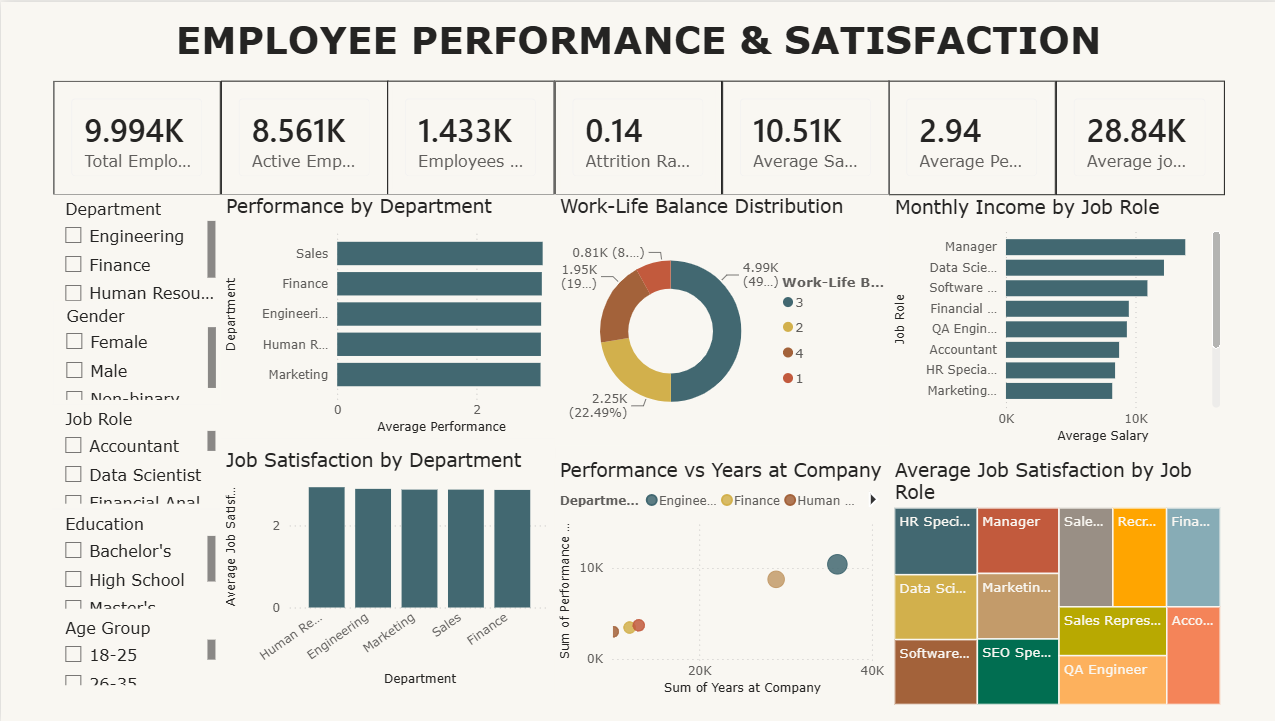

The dashboard page shown, as its layout file describes it:
{"tool":"powerbi","page":{"name":"EMPLOYEE PERFORMANCE & SATISFACTION","canvas":[1280,720],"ordinal":2},"visuals":[{"type":"cardVisual","fields":{"Data":["HR.Total Employees"]},"box":[52.4,78.6,167.1,114.3],"z":0},{"type":"textbox","box":[51.4,10,1172.9,68.6],"z":1000},{"type":"cardVisual","fields":{"Data":["HR.Average Performance"]},"box":[888.1,78.6,167.1,114.3],"z":2000},{"type":"cardVisual","fields":{"Data":["HR.Average Salary"]},"box":[721,78.6,167.1,114.3],"z":3000},{"type":"cardVisual","fields":{"Data":["HR.Active Employees"]},"box":[219.5,78.6,167.1,114.3],"z":4000},{"type":"cardVisual","fields":{"Data":["HR.Employees Left"]},"box":[386.7,78.6,167.1,114.3],"z":5000},{"type":"cardVisual","fields":{"Data":["HR.Attrition Rate"]},"box":[553.8,78.6,167.1,114.3],"z":6000},{"type":"cardVisual","fields":{"Data":["Sum(HR.Job Satisfaction)"]},"box":[1055.2,78.6,168.6,114.3],"z":7000},{"type":"clusteredBarChart","title":"Performance by Department","fields":{"Y":["HR.Average Performance"],"Category":["HR.Department"]},"box":[220,192.9,334.3,244.3],"z":8000},{"type":"donutChart","title":"Work-Life Balance Distribution","fields":{"Y":["HR.Total Employees"],"Category":["HR.Work-Life Balance"]},"box":[554.3,192.9,334.3,251.4],"z":9000},{"type":"columnChart","title":"Job Satisfaction by Department","fields":{"Category":["HR.Department"],"Y":["HR.Average Job Satisfaction"]},"box":[220,445.7,334.3,242.9],"z":10000},{"type":"slicer","fields":{"Values":["HR.Department"]},"box":[51.4,192.9,168.6,122.9],"z":14000},{"type":"slicer","fields":{"Values":["HR.Gender"]},"box":[52.9,298.6,167.1,104.3],"z":16000},{"type":"slicer","fields":{"Values":["HR.Job Role"]},"box":[51.4,402.9,168.6,104.3],"z":17000},{"type":"slicer","fields":{"Values":["HR.Education"]},"box":[51.4,507.1,168.6,104.3],"z":18000},{"type":"slicer","fields":{"Values":["HR.Age Group"]},"box":[51.4,611.4,168.6,77.1],"z":19000},{"type":"barChart","title":"Monthly Income by Job Role","fields":{"Category":["HR.Job Role"],"Y":["HR.Average Salary"]},"box":[888.6,194.3,335.7,251.4],"z":19001},{"type":"scatterChart","title":"Performance vs Years at Company","fields":{"X":["Sum(HR.Years at Company)"],"Y":["Sum(HR.Performance Rating)"],"Size":["Sum(HR.Monthly Income)"],"Series":["HR.Department"]},"box":[554.3,455.7,334.3,241.4],"z":19002},{"type":"treemap","fields":{"Values":["HR.Average Job Satisfaction"],"Group":["HR.Job Role"]},"box":[888.6,455.7,335.7,251.4],"z":19003}]}

Visuals, with their boxes in screenshot pixels (x1, y1, x2, y2), scaled from the page's 1280x720 canvas onto the 1275x721 screenshot:
cardVisual - HR.Total Employees: <box>52,79,219,193</box>
textbox: <box>51,10,1220,79</box>
cardVisual - HR.Average Performance: <box>885,79,1051,193</box>
cardVisual - HR.Average Salary: <box>718,79,885,193</box>
cardVisual - HR.Active Employees: <box>219,79,385,193</box>
cardVisual - HR.Employees Left: <box>385,79,552,193</box>
cardVisual - HR.Attrition Rate: <box>552,79,718,193</box>
cardVisual - Sum(HR.Job Satisfaction): <box>1051,79,1219,193</box>
"Performance by Department" clusteredBarChart: <box>219,193,552,438</box>
"Work-Life Balance Distribution" donutChart: <box>552,193,885,445</box>
"Job Satisfaction by Department" columnChart: <box>219,446,552,690</box>
slicer - HR.Department: <box>51,193,219,316</box>
slicer - HR.Gender: <box>53,299,219,403</box>
slicer - HR.Job Role: <box>51,403,219,508</box>
slicer - HR.Education: <box>51,508,219,612</box>
slicer - HR.Age Group: <box>51,612,219,689</box>
"Monthly Income by Job Role" barChart: <box>885,195,1220,446</box>
"Performance vs Years at Company" scatterChart: <box>552,456,885,698</box>
treemap - HR.Average Job Satisfaction x HR.Job Role: <box>885,456,1220,708</box>
